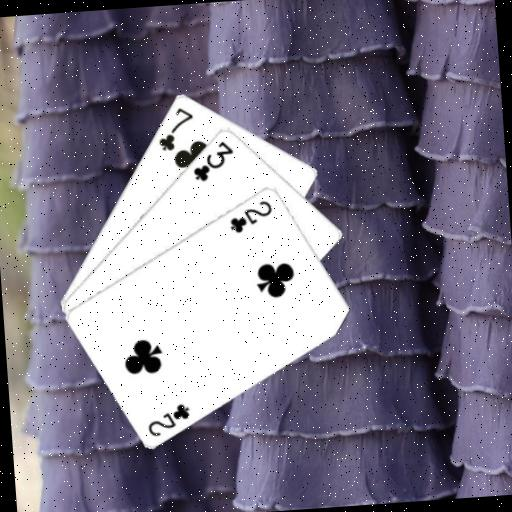2C: (143, 399, 193, 439), (225, 197, 276, 236)
3C: (188, 137, 237, 184)
7C: (153, 103, 197, 153)
